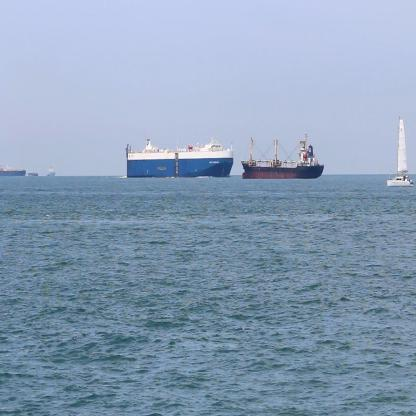Container Ship: (125, 134, 236, 180), (238, 128, 326, 182), (1, 162, 29, 178), (45, 163, 56, 179)
